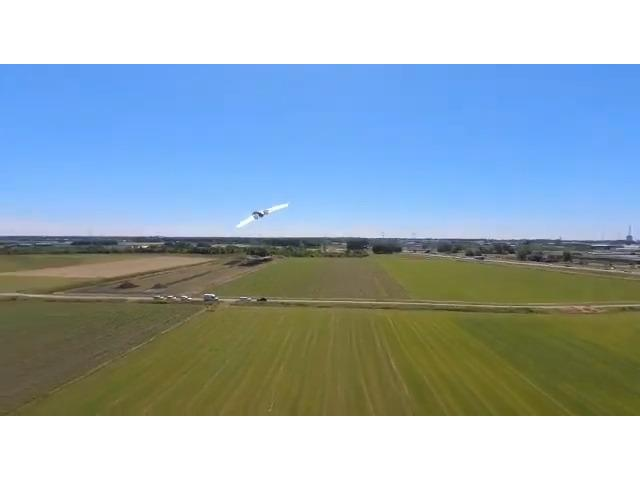Anti-Drone: (224, 191, 302, 240)
